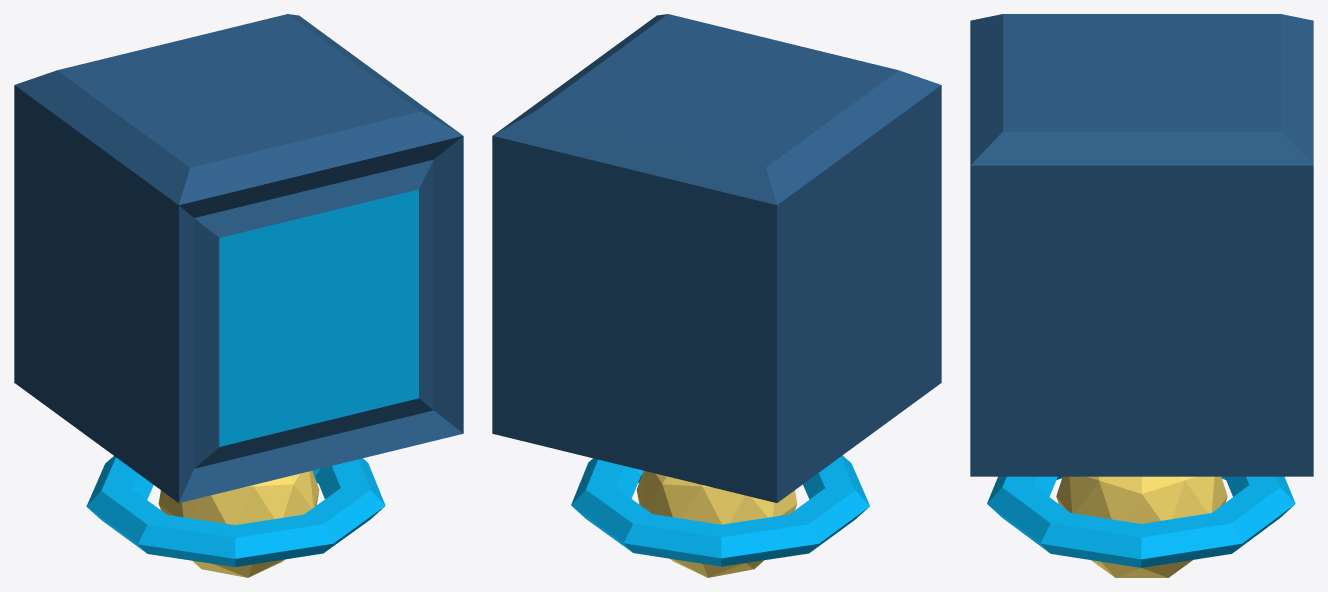
File: Robo.gltf
3 renders of one model, left to right at view 1: azimuth 30°, elevation 25°; view 2: azimuth 150°, elevation 25°; view 3: azimuth 270°, elevation 25°, orthographic. The views are drawn at different scales.
Parts seen in each view (by area): view 1: Body, WheelControl, Wheel; view 2: Body, WheelControl, Wheel; view 3: Body, WheelControl, Wheel.
Part boxes in pixels (x1,y1,x2,y2): Body: (14,14,463,502); WheelControl: (86,456,385,566); Wheel: (158,471,319,577); Body: (492,14,941,502); WheelControl: (571,455,869,566); Wheel: (636,471,797,577); Body: (970,14,1313,476); WheelControl: (987,476,1295,567); Wheel: (1056,476,1227,577).
Bounding box in the file's own units: 1 × 1.61 × 1.
